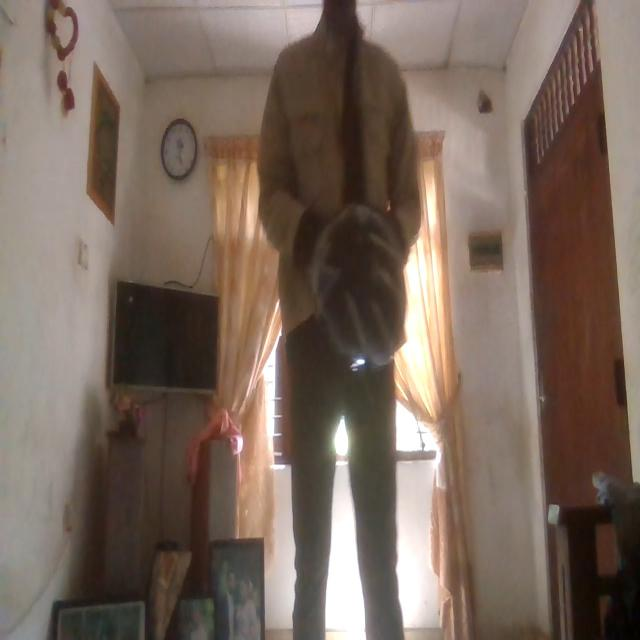Jacket_Wearer: (261, 10, 424, 334)
Person: (255, 1, 423, 640)
